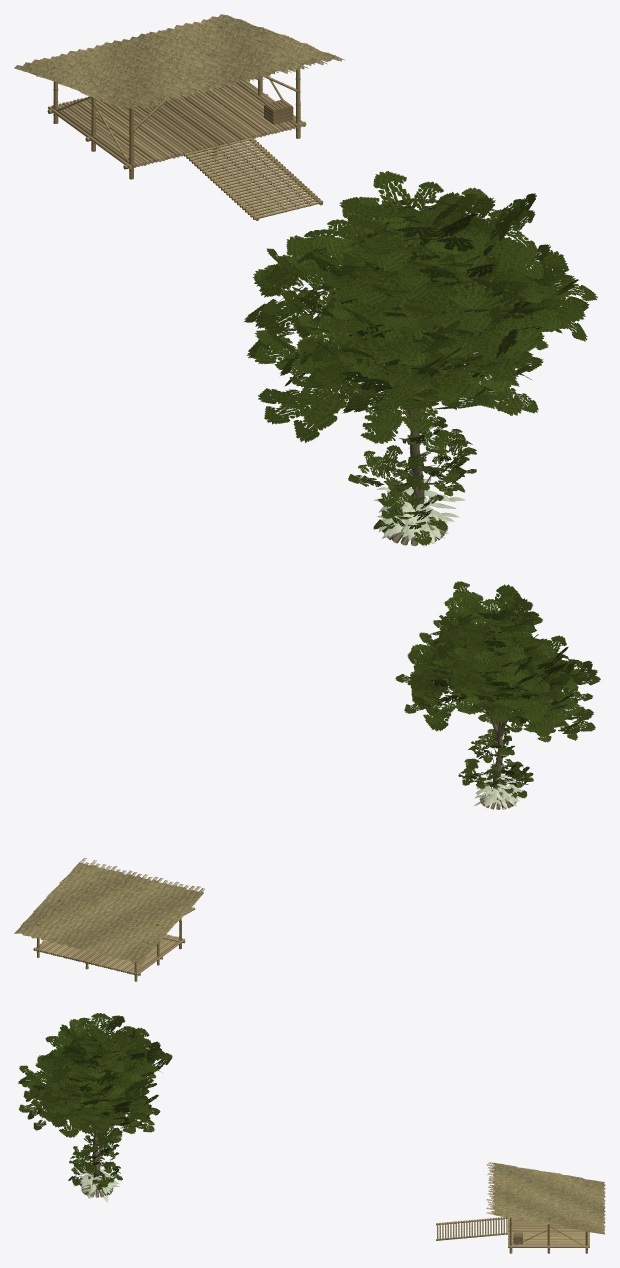
Rendered from reconstruction.glb.
3 renders of one model, top to bottom at view 1: azimuth 30°, elevation 25°; view 2: azimuth 150°, elevation 25°; view 3: azimuth 270°, elevation 25°, orthographic. The views are drawn at different scales.
Visible parts, largest first — view 1: forest-2-crown-near, forest-0-crown-near, shelter-thatch, forest-1-crown-near, shelter-deck, shelter-timber, understory-1-leaves-near, understory-2-leaves-near, understory-0-leaves-near; view 2: shelter-thatch, forest-2-crown-near, forest-0-crown-near, forest-1-crown-near, understory-1-leaves-near, shelter-deck, understory-2-leaves-near; view 3: forest-2-crown-near, shelter-thatch, forest-0-crown-near, forest-1-crown-near, understory-1-leaves-near, shelter-deck, shelter-timber, understory-2-leaves-near.
Part boxes in pixels (box(x1,y1,x2,y2)): forest-2-crown-near: box(254, 171, 597, 409); forest-0-crown-near: box(244, 192, 571, 432); shelter-thatch: box(14, 14, 344, 109); forest-1-crown-near: box(255, 236, 575, 443); shelter-deck: box(48, 79, 305, 168); shelter-timber: box(47, 25, 323, 220); understory-1-leaves-near: box(348, 404, 476, 545); understory-2-leaves-near: box(376, 487, 465, 546); understory-0-leaves-near: box(373, 479, 459, 539); shelter-thatch: box(14, 858, 204, 963); forest-2-crown-near: box(419, 581, 600, 722); forest-0-crown-near: box(395, 609, 575, 732); forest-1-crown-near: box(407, 631, 595, 742); understory-1-leaves-near: box(458, 727, 533, 798); shelter-deck: box(33, 934, 185, 975); understory-2-leaves-near: box(474, 769, 527, 809); forest-2-crown-near: box(35, 1013, 172, 1127); shelter-thatch: box(486, 1162, 605, 1234); forest-0-crown-near: box(18, 1027, 160, 1145); forest-1-crown-near: box(26, 1041, 156, 1137); understory-1-leaves-near: box(68, 1127, 122, 1190); shelter-deck: box(508, 1217, 589, 1247); shelter-timber: box(436, 1170, 588, 1253); understory-2-leaves-near: box(73, 1168, 119, 1202).
Size of the model in its own units: 27.31 by 19.11 by 57.68.
4 materials, 1 textured.
